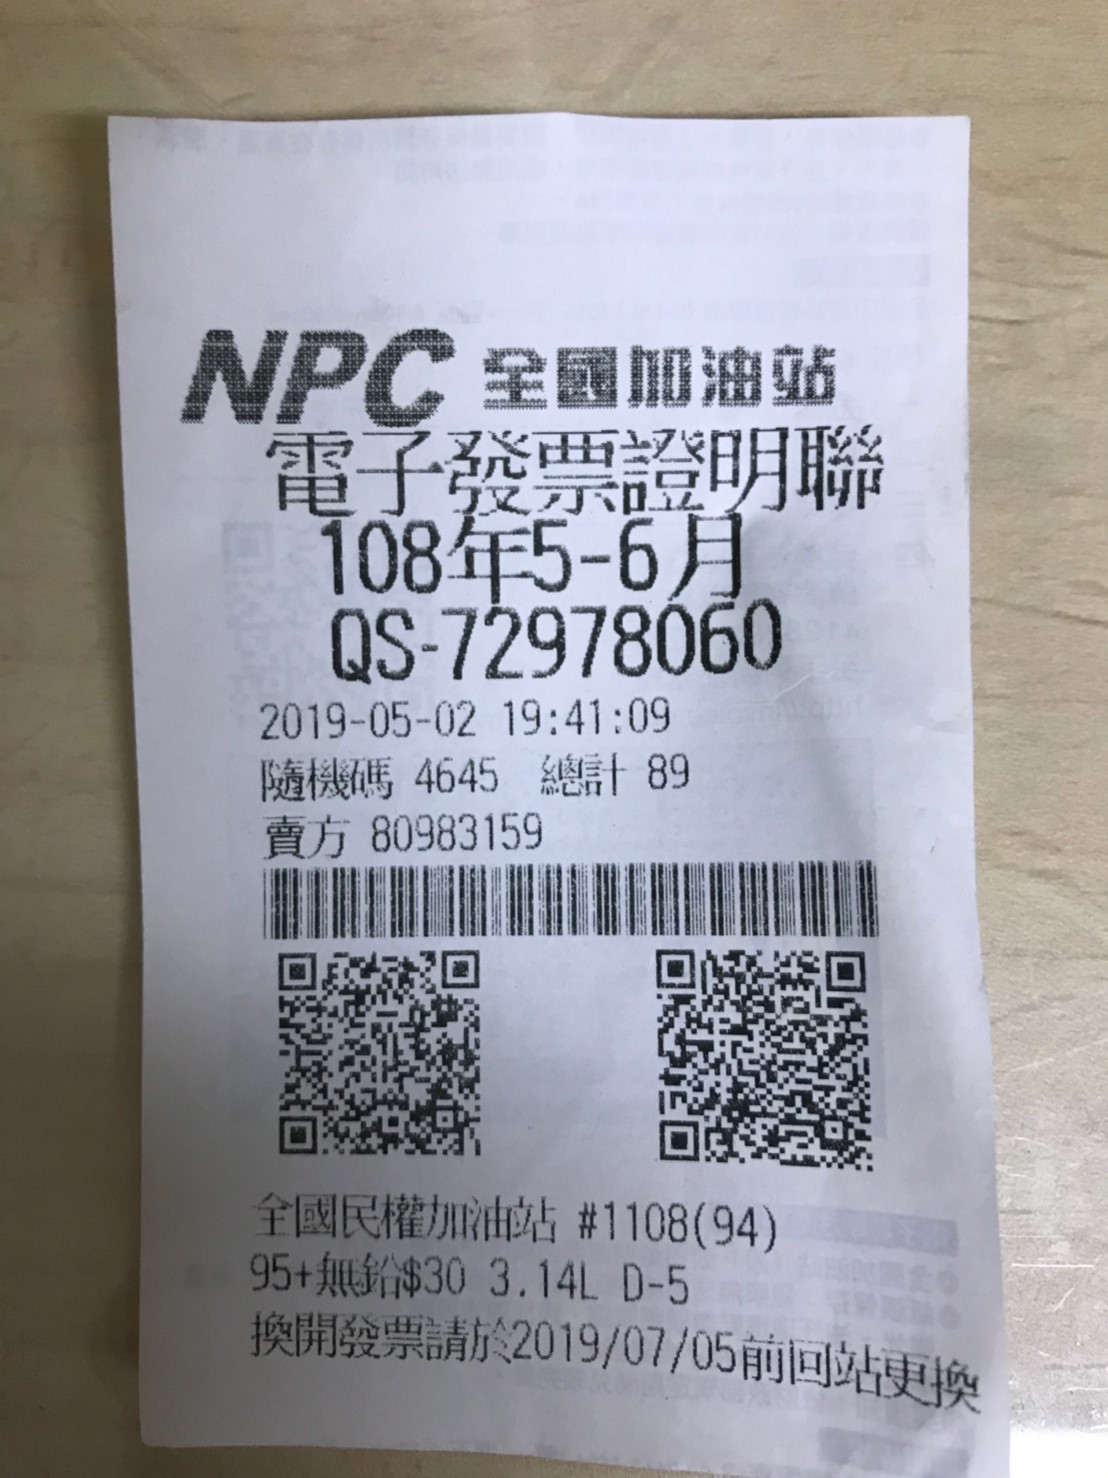Date_New: (324, 516, 743, 597)
Number_New: (440, 591, 789, 678)
